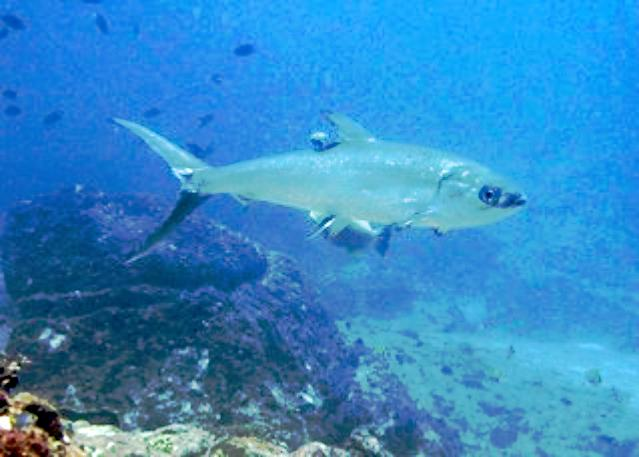Healthy Fish: (116, 112, 526, 261)
